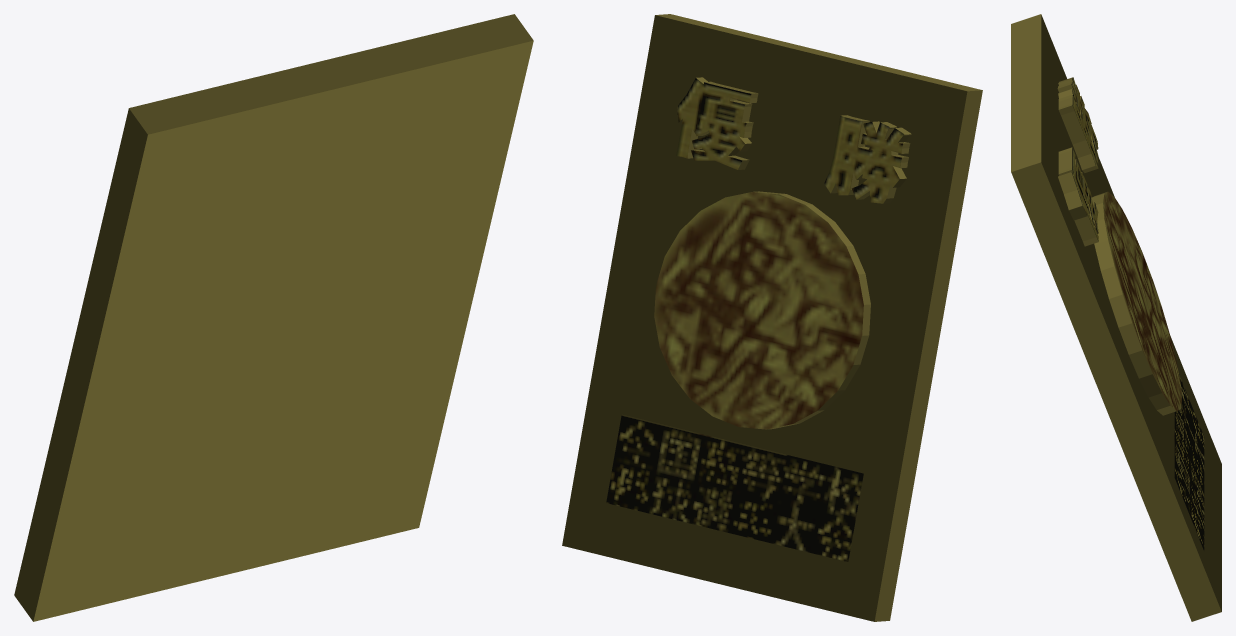
File: mcico_0.ico.obj
3 renders of one model, left to right at view 1: azimuth 30°, elevation 25°; view 2: azimuth 150°, elevation 25°; view 3: azimuth 270°, elevation 25°, orthographic. The views are drawn at different scales.
Size of the model in its own units: 3.21 by 4.63 by 1.93.
1 material, 1 textured.
